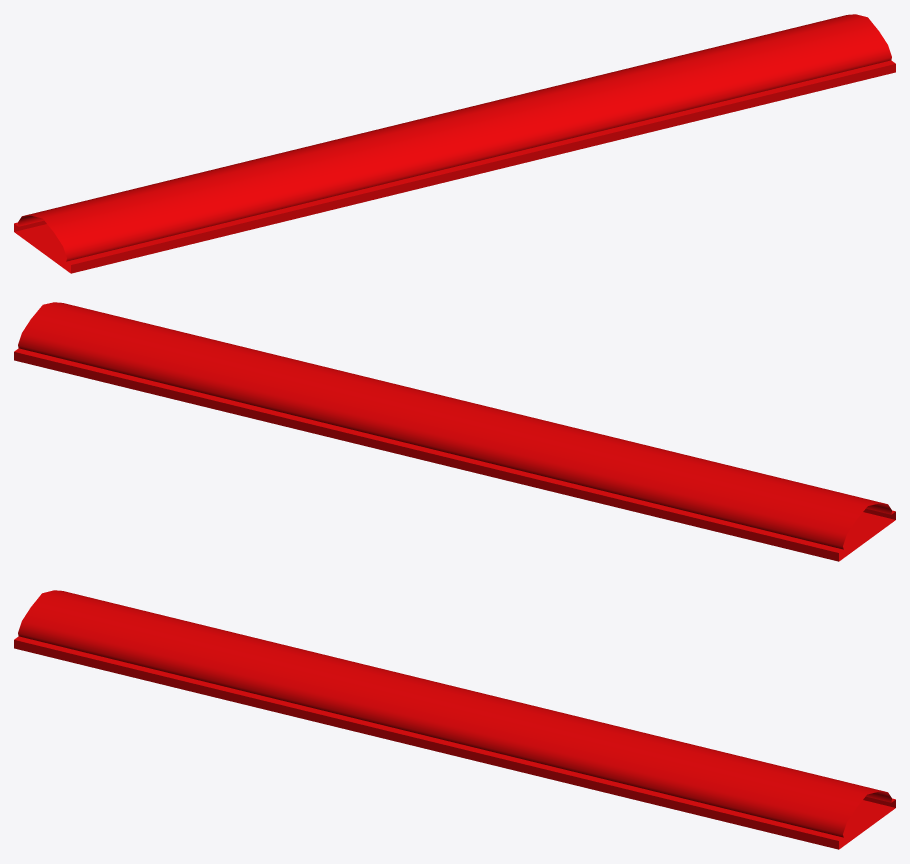
Rendered from Railing Top.fbx.
3 views of the same model, one above another, from view 1: azimuth 30°, elevation 25°; view 2: azimuth 150°, elevation 25°; view 3: azimuth 330°, elevation 25° (orthographic).
Visible parts, largest first — view 1: Railing Top; view 2: Railing Top; view 3: Railing Top.
Part boxes in pixels (bbox=[...]): Railing Top: bbox=[14, 14, 895, 273]; Railing Top: bbox=[14, 302, 895, 561]; Railing Top: bbox=[14, 590, 895, 849].
Size of the model in its own units: 200 by 8 by 23.93.
